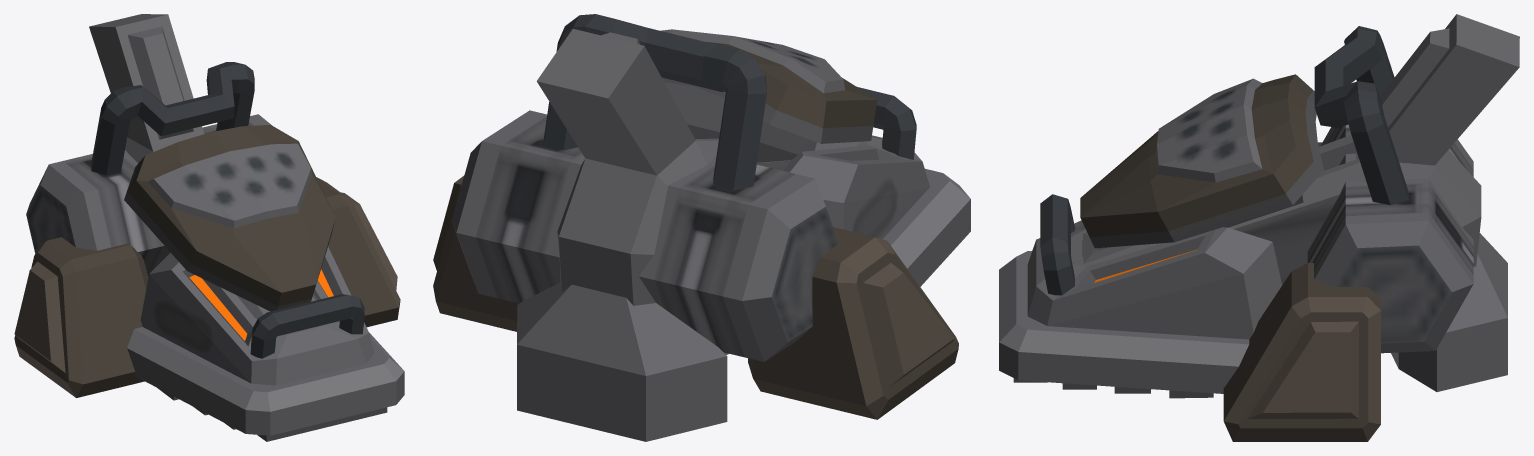
The model's file is SM_Mech_Foot_01_Armor_Toes_04.fbx.
3 renders of one model, left to right at view 1: azimuth 30°, elevation 25°; view 2: azimuth 150°, elevation 25°; view 3: azimuth 270°, elevation 25°, orthographic. The views are drawn at different scales.
Visible parts, largest first — view 1: SM_Mech_Foot_01_Armor_Toes_04; view 2: SM_Mech_Foot_01_Armor_Toes_04; view 3: SM_Mech_Foot_01_Armor_Toes_04.
Boxes of the visible parts, bbox=[...] form: SM_Mech_Foot_01_Armor_Toes_04: bbox=[14, 14, 404, 441]; SM_Mech_Foot_01_Armor_Toes_04: bbox=[433, 14, 970, 441]; SM_Mech_Foot_01_Armor_Toes_04: bbox=[999, 14, 1519, 441].
Bounding box in the file's own units: 69.47 × 51.59 × 76.23.
